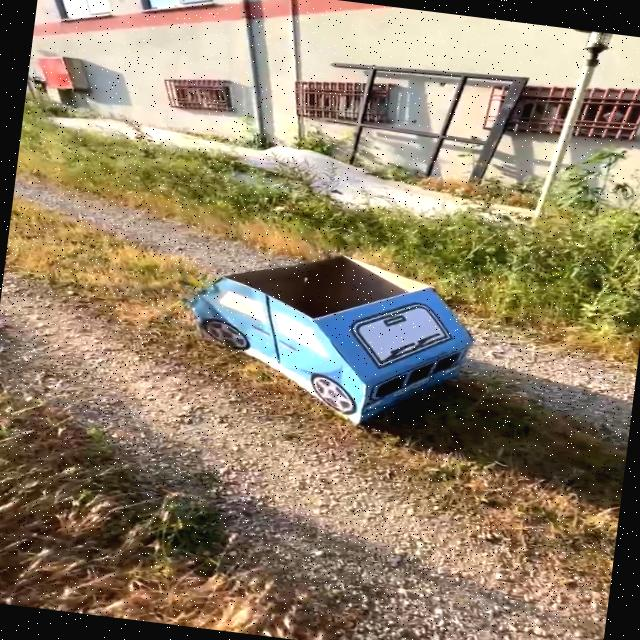blue_car: (135, 202, 568, 477)
